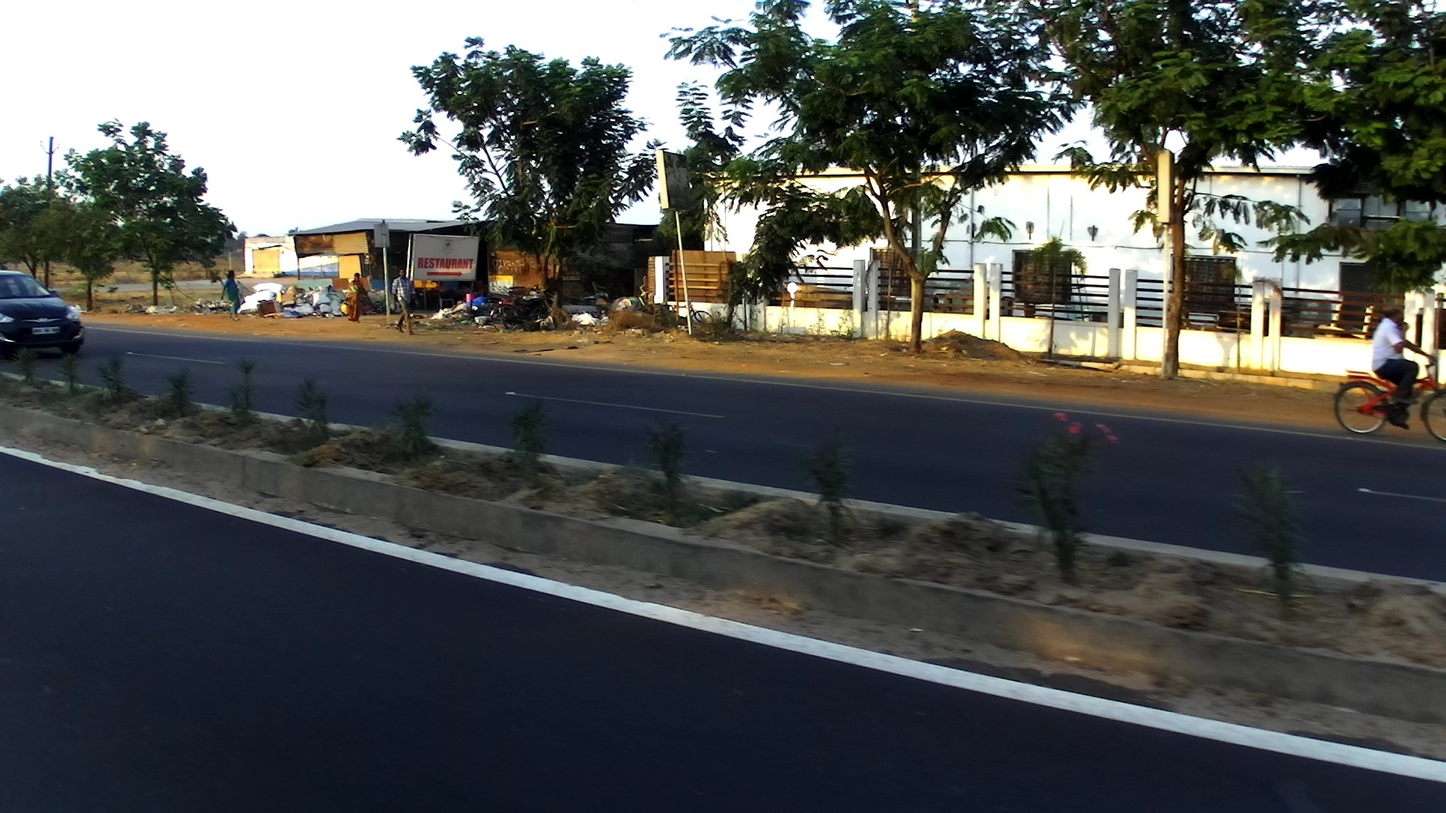bicycle: (1335, 352, 1444, 440), (645, 289, 714, 333), (493, 289, 547, 333)
car: (1, 268, 86, 360)
motorcycle: (507, 282, 569, 330)
person: (387, 267, 422, 336), (219, 268, 245, 318), (345, 272, 370, 321)
rider: (1371, 304, 1436, 429)
